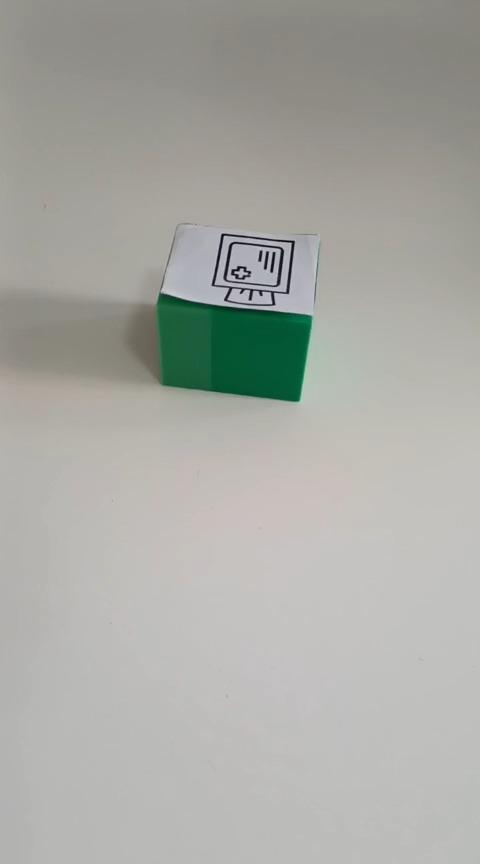Gauze: (155, 221, 320, 402)
